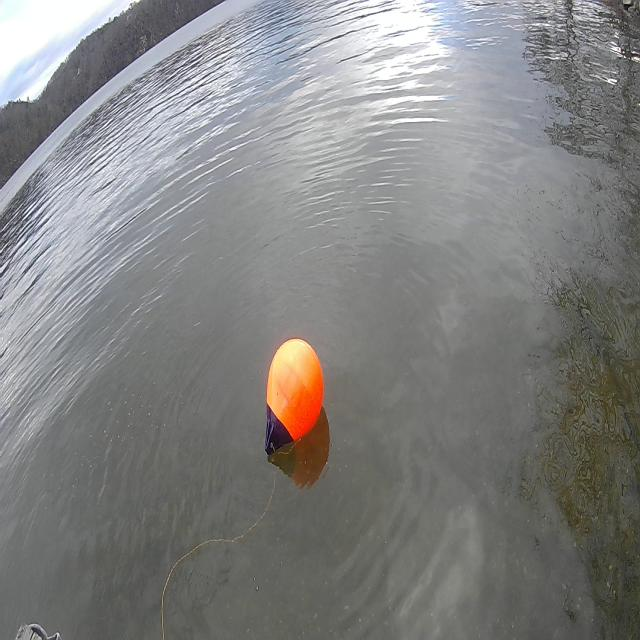Buoy: (260, 334, 327, 466)
